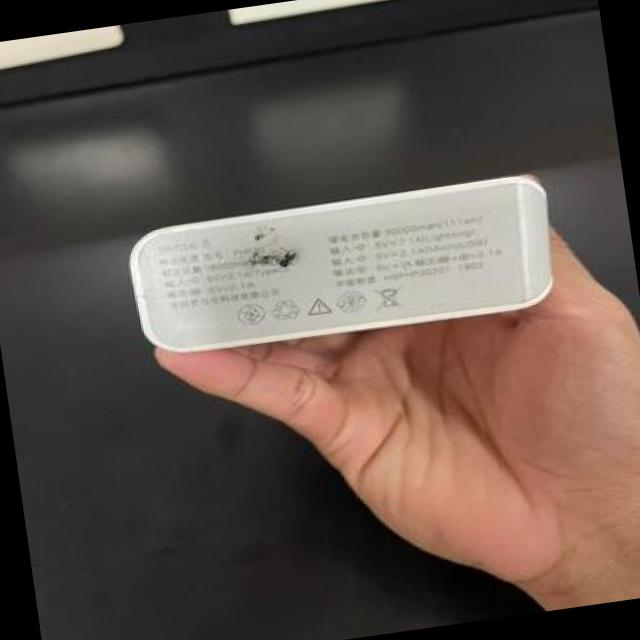portable-charger: (114, 162, 569, 381)
